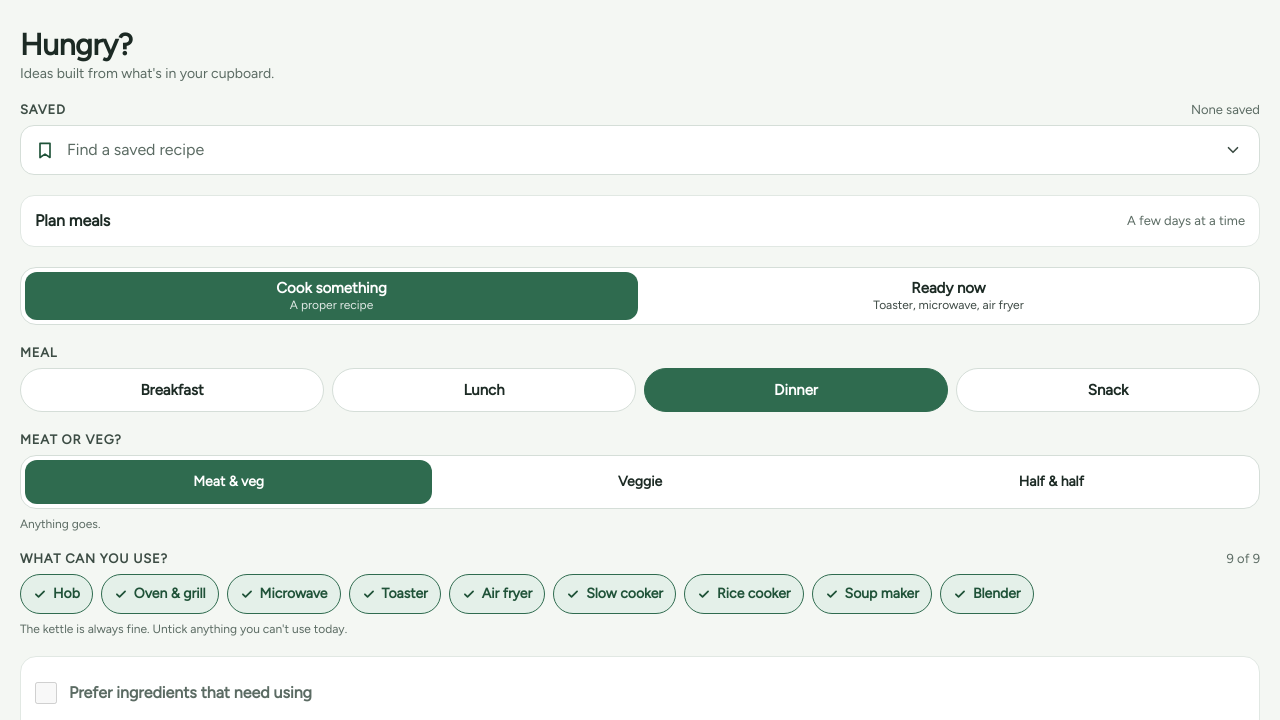
Test case: Cook something shows the nine chips as drawn, all ticked, with the count and the note
Expected: the text "9 of 9" is shown, [1226,550,1260,566]
Expected: the text "The kettle is always fine. Untick anything you can't use today." is shown, [20,622,347,636]
Click the button "Oven & grill".
click(160, 594)  # box [101,574,218,614]
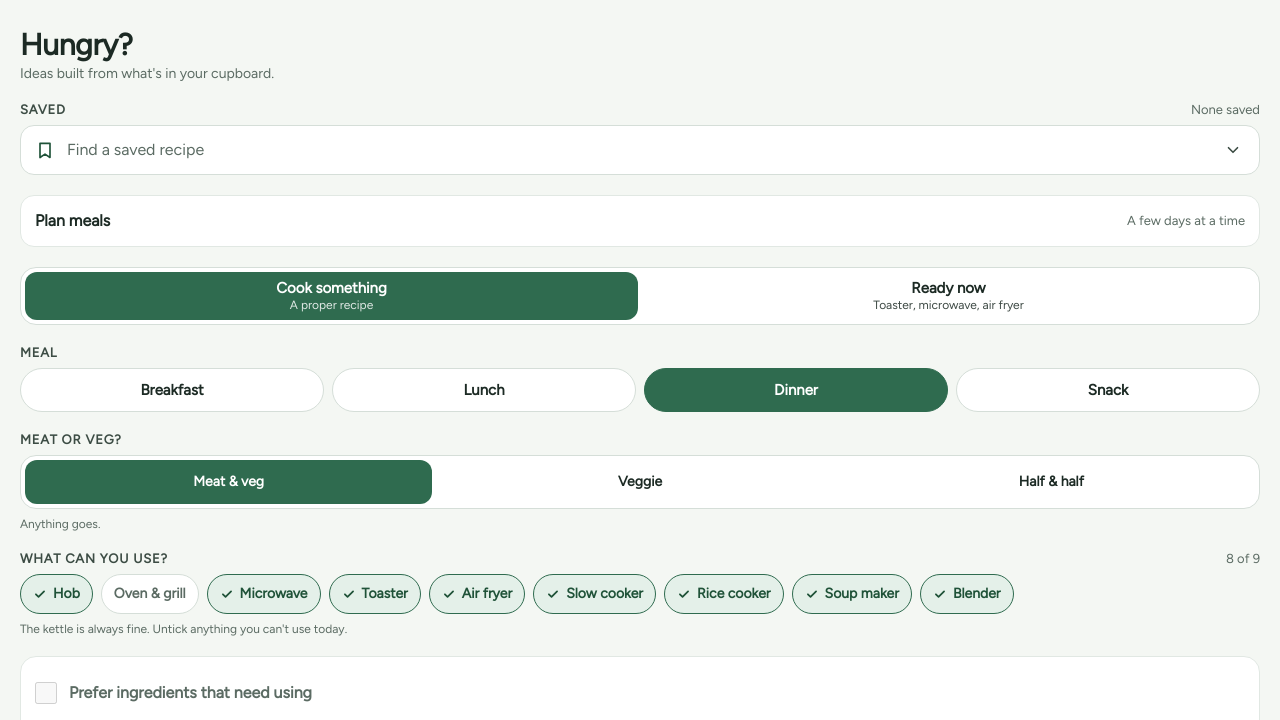
Now the text "8 of 9" is shown, box [1226,550,1260,566]
